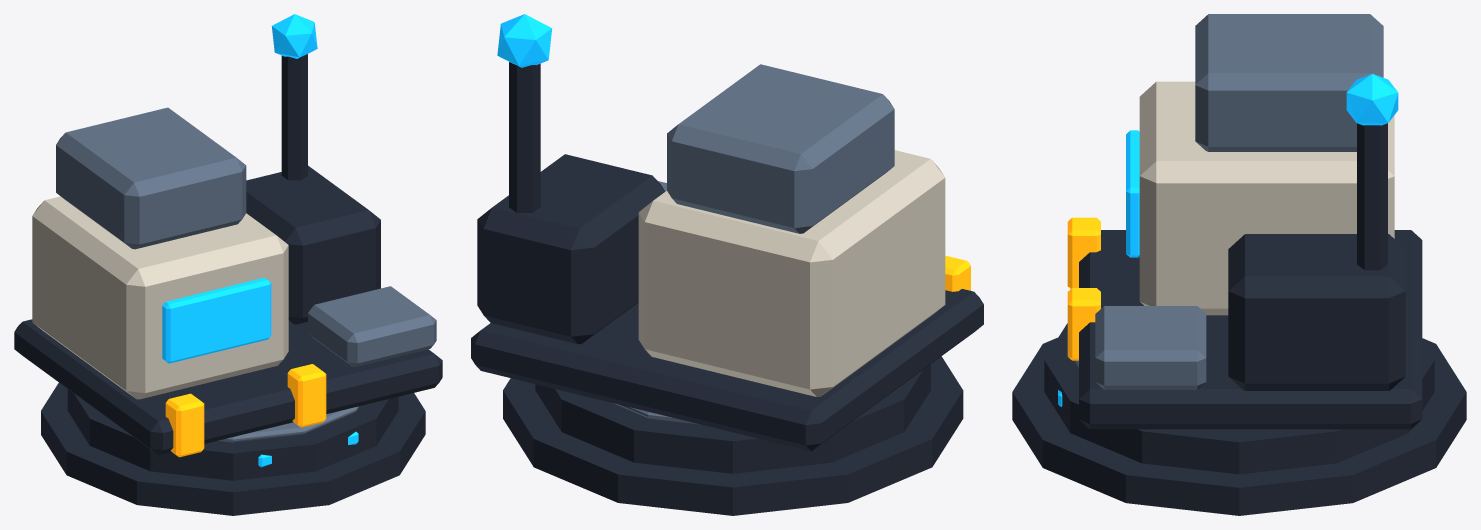
File: depot.glb
The picture shows the model from 3 angles, left to right: view 1: azimuth 30°, elevation 25°; view 2: azimuth 150°, elevation 25°; view 3: azimuth 270°, elevation 25°; orthographic projection. The views are drawn at different scales.
Visible parts, largest first — view 1: Primary cargo pod, Stacked pod, Depot deck, Plinth lower tier, Utility crate, Plinth upper tier, Sample tray, Pod faction panel, Inventory mast, Cargo clamp.001, Cargo clamp, Inventory beacon (+1 smaller); view 2: Primary cargo pod, Depot deck, Stacked pod, Utility crate, Plinth lower tier, Plinth upper tier, Inventory mast, Inventory beacon, Cargo clamp; view 3: Primary cargo pod, Utility crate, Stacked pod, Plinth lower tier, Depot deck, Plinth upper tier, Sample tray, Inventory mast, Inventory beacon, Pod faction panel, Cargo clamp, Cargo clamp.001.
Part boxes in pixels (box(x1,y1,x2,y2)): Primary cargo pod: box(32, 196, 288, 399); Stacked pod: box(56, 107, 246, 249); Depot deck: box(14, 319, 442, 454); Plinth lower tier: box(41, 383, 425, 515); Utility crate: box(246, 165, 380, 324); Plinth upper tier: box(67, 389, 398, 480); Sample tray: box(308, 286, 436, 367); Pod faction panel: box(162, 277, 271, 363); Inventory mast: box(281, 54, 307, 180); Cargo clamp.001: box(287, 364, 326, 427); Cargo clamp: box(165, 393, 204, 457); Inventory beacon: box(271, 14, 317, 58); Primary cargo pod: box(638, 150, 945, 396); Depot deck: box(471, 289, 983, 451); Stacked pod: box(667, 64, 894, 233); Utility crate: box(477, 154, 665, 344); Plinth lower tier: box(503, 356, 963, 515); Plinth upper tier: box(535, 364, 930, 473); Inventory mast: box(509, 62, 540, 212); Inventory beacon: box(497, 14, 552, 67); Cargo clamp: box(945, 255, 970, 291); Primary cargo pod: box(1139, 81, 1394, 315); Utility crate: box(1228, 234, 1405, 390); Stacked pod: box(1195, 14, 1383, 151); Plinth lower tier: box(1012, 337, 1466, 515); Depot deck: box(1079, 230, 1422, 429); Plinth upper tier: box(1044, 323, 1434, 474); Sample tray: box(1095, 306, 1206, 389); Inventory mast: box(1357, 123, 1387, 270); Inventory beacon: box(1346, 73, 1398, 125); Pod faction panel: box(1126, 130, 1139, 257); Cargo clamp: box(1067, 217, 1100, 288); Cargo clamp.001: box(1067, 288, 1100, 360).
Size of the model in its own units: 0.82 by 0.825 by 0.82.
